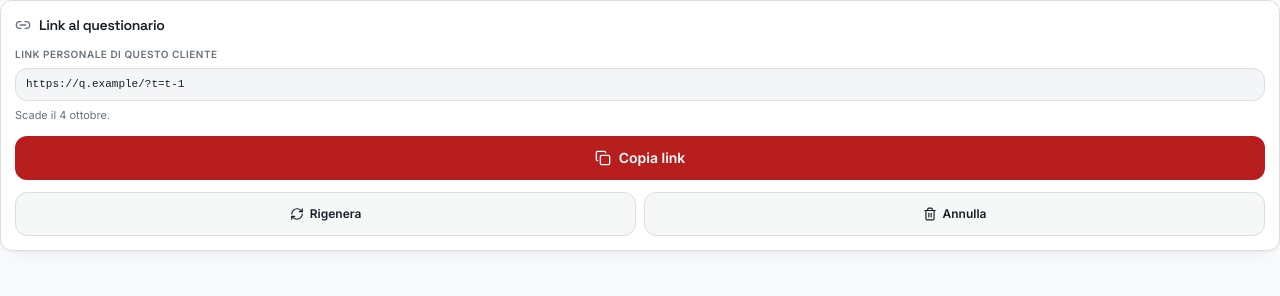
Scenario: link al questionario — tre stati, una cosa da fare per volta › copia fallita: il campo resta selezionabile e la riga lo dice
Note: jsdom non ha `navigator.clipboard`: e' esattamente il caso da coprire.
Click the button "Copia link" at x=640, y=158, box [15,136,1265,180]
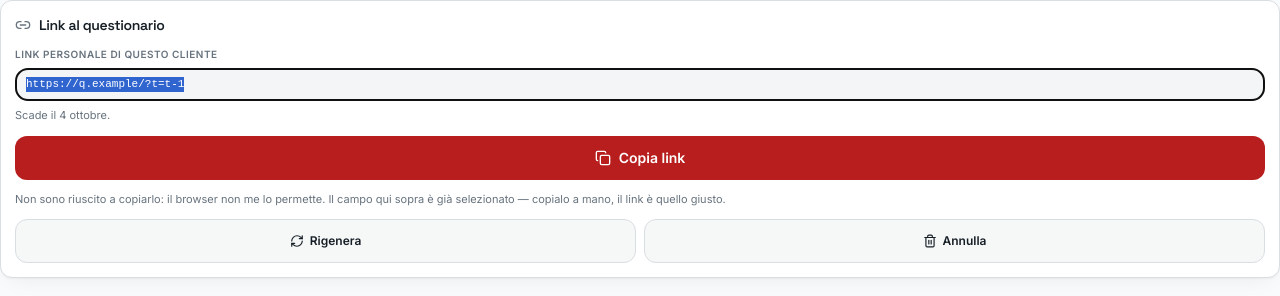
Expected: the field holds "https://q.example/?t=t-1", [15,68,1265,101]
Now the text "copialo a mano" is shown, box [15,192,726,206]
